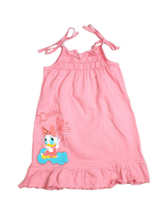clothoes: (18, 22, 155, 194)
